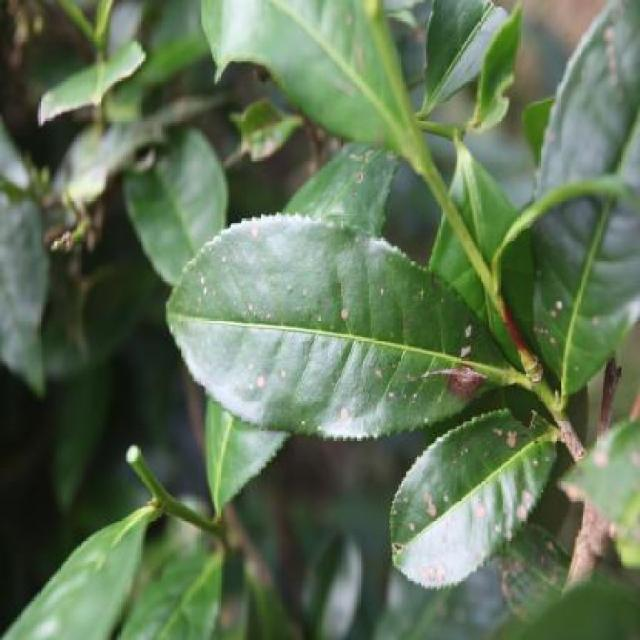Leaf rust of tea: (168, 198, 510, 422), (402, 389, 550, 560)
